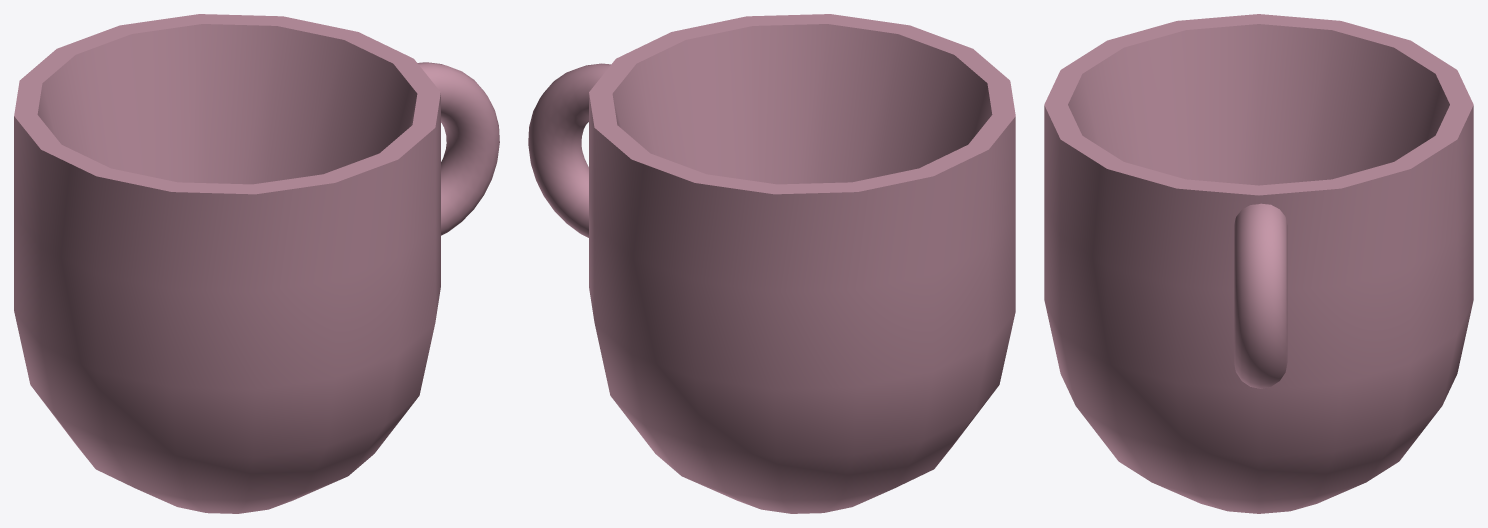
File: taza.glb
3 renders of one model, left to right at view 1: azimuth 30°, elevation 25°; view 2: azimuth 150°, elevation 25°; view 3: azimuth 270°, elevation 25°, orthographic.
Visible parts, largest first — view 1: Cápsula, Toroide; view 2: Cápsula, Toroide; view 3: Cápsula, Toroide.
Boxes of the visible parts, bbox=[...] form: Cápsula: bbox=[14, 14, 440, 513]; Toroide: bbox=[417, 62, 499, 235]; Cápsula: bbox=[589, 14, 1015, 513]; Toroide: bbox=[528, 63, 610, 237]; Cápsula: bbox=[1044, 14, 1473, 513]; Toroide: bbox=[1234, 203, 1287, 388].
Bounding box in the file's own units: 1.22 × 1 × 1.
